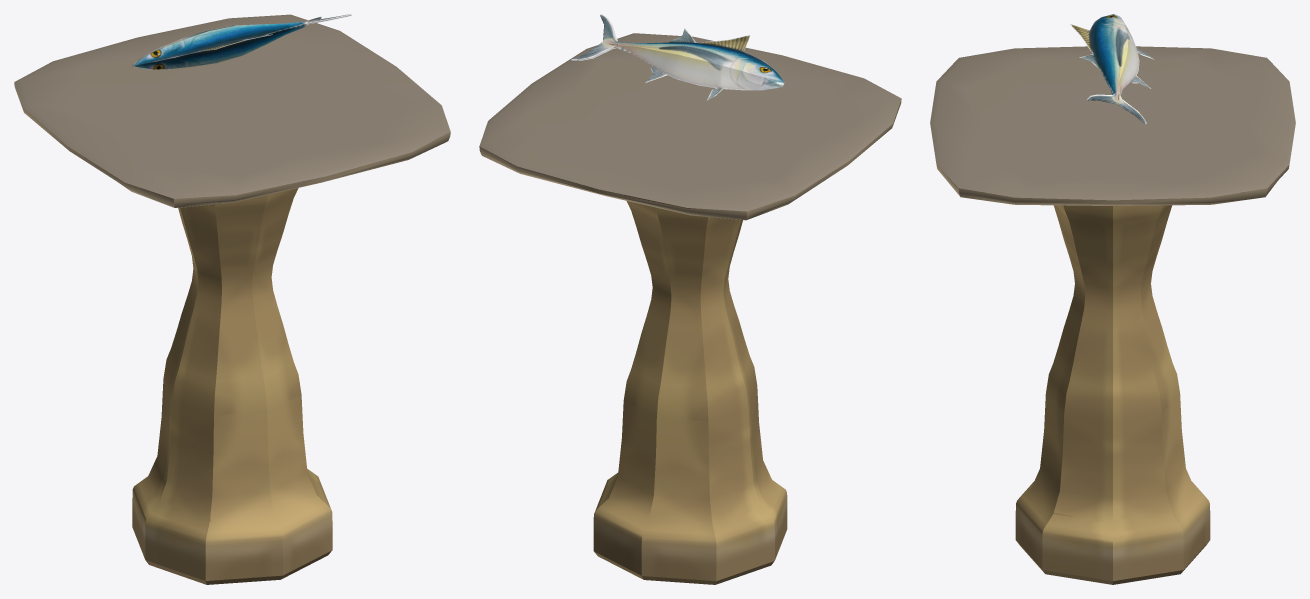
The model's file is idol 1.fbx.
The picture shows the model from 3 angles, left to right: view 1: azimuth 30°, elevation 25°; view 2: azimuth 150°, elevation 25°; view 3: azimuth 270°, elevation 25°; orthographic projection. The views are drawn at different scales.
Visible parts, largest first — view 1: Pedestal, Idol; view 2: Pedestal, Idol; view 3: Pedestal, Idol.
Part boxes in pixels (x1,y1,x2,y2): Pedestal: (14,14,450,584); Idol: (132,14,351,69); Pedestal: (479,33,901,584); Idol: (571,14,784,100); Pedestal: (930,46,1295,584); Idol: (1070,14,1153,124).
Bounding box in the file's own units: 191 × 290 × 191.
2 materials, 2 textured.
